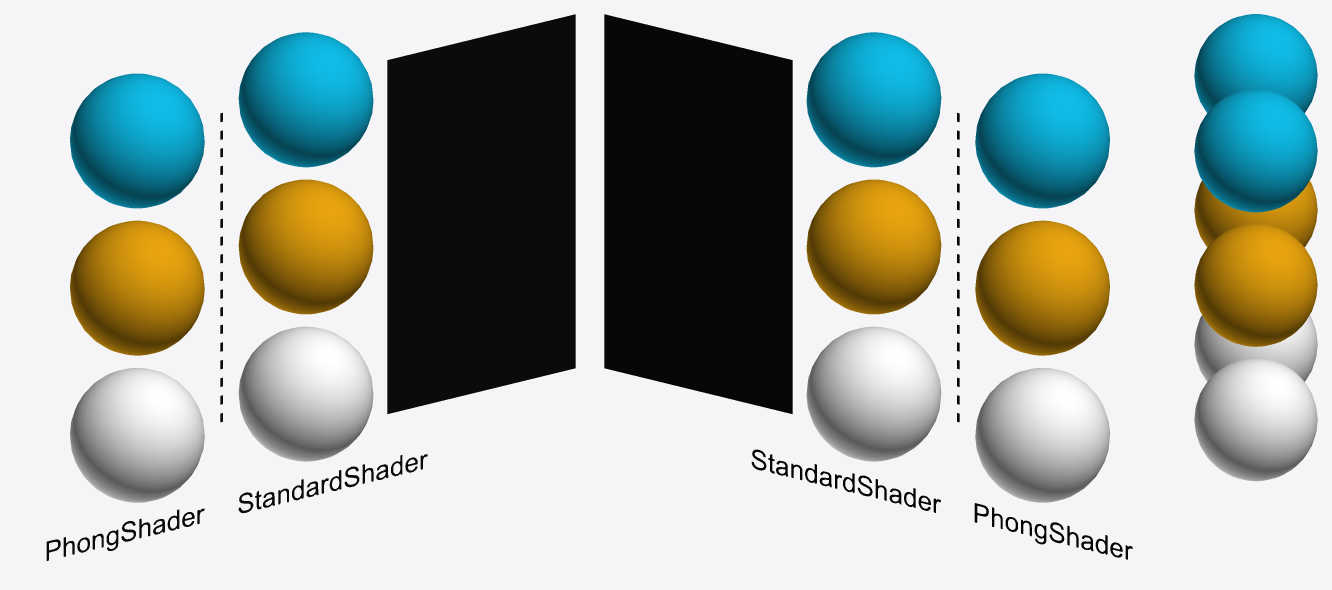
The model's file is ShaderTest.glb.
3 views of the same model, side by side, from view 1: azimuth 30°, elevation 25°; view 2: azimuth 150°, elevation 25°; view 3: azimuth 270°, elevation 25° (orthographic). The views are drawn at different scales.
Visible parts, largest first — view 1: Plane, Sphere.001, Sphere, Sphere.003, Sphere.004, Sphere.005, Sphere.011, Plane.002; view 2: Plane.001, Sphere.001, Sphere, Sphere.003, Sphere.004, Sphere.005, Sphere.011, Plane.003; view 3: Sphere, Sphere.003, Sphere.001, Sphere.004, Sphere.011, Sphere.005.
Boxes of the visible parts, bbox=[...] form: Plane: bbox=[387, 14, 575, 413]; Sphere.001: bbox=[238, 179, 373, 314]; Sphere: bbox=[238, 326, 373, 461]; Sphere.003: bbox=[238, 32, 373, 167]; Sphere.004: bbox=[70, 73, 204, 208]; Sphere.005: bbox=[70, 220, 204, 355]; Sphere.011: bbox=[70, 368, 204, 502]; Plane.002: bbox=[46, 454, 427, 560]; Plane.001: bbox=[604, 14, 792, 413]; Sphere.001: bbox=[806, 179, 941, 314]; Sphere: bbox=[806, 326, 941, 461]; Sphere.003: bbox=[806, 32, 941, 167]; Sphere.004: bbox=[975, 73, 1109, 208]; Sphere.005: bbox=[975, 220, 1109, 355]; Sphere.011: bbox=[975, 368, 1109, 502]; Plane.003: bbox=[751, 449, 1132, 559]; Sphere: bbox=[1194, 358, 1317, 481]; Sphere.003: bbox=[1194, 89, 1317, 212]; Sphere.001: bbox=[1194, 223, 1317, 346]; Sphere.004: bbox=[1194, 14, 1317, 112]; Sphere.011: bbox=[1194, 315, 1317, 381]; Sphere.005: bbox=[1194, 181, 1317, 247].
Bounding box in the file's own units: 0.1994 × 0.1584 × 0.0416.
10 materials, 3 textured.
